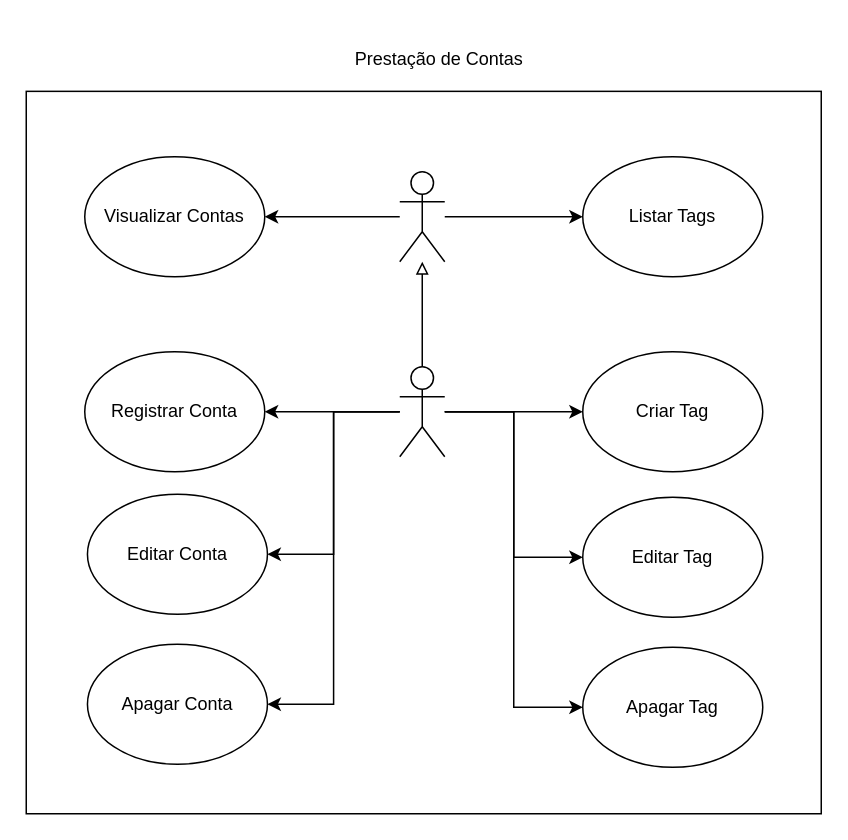
Image size: 848x840. Some labels were removed from this diagram. The shapes that lost their labels are listed below. From the top down, each one's box as (x1, y1, x2, y2) in pixels, then its label:
(398, 170, 445, 262): Morador
(398, 365, 445, 457): Síndico
